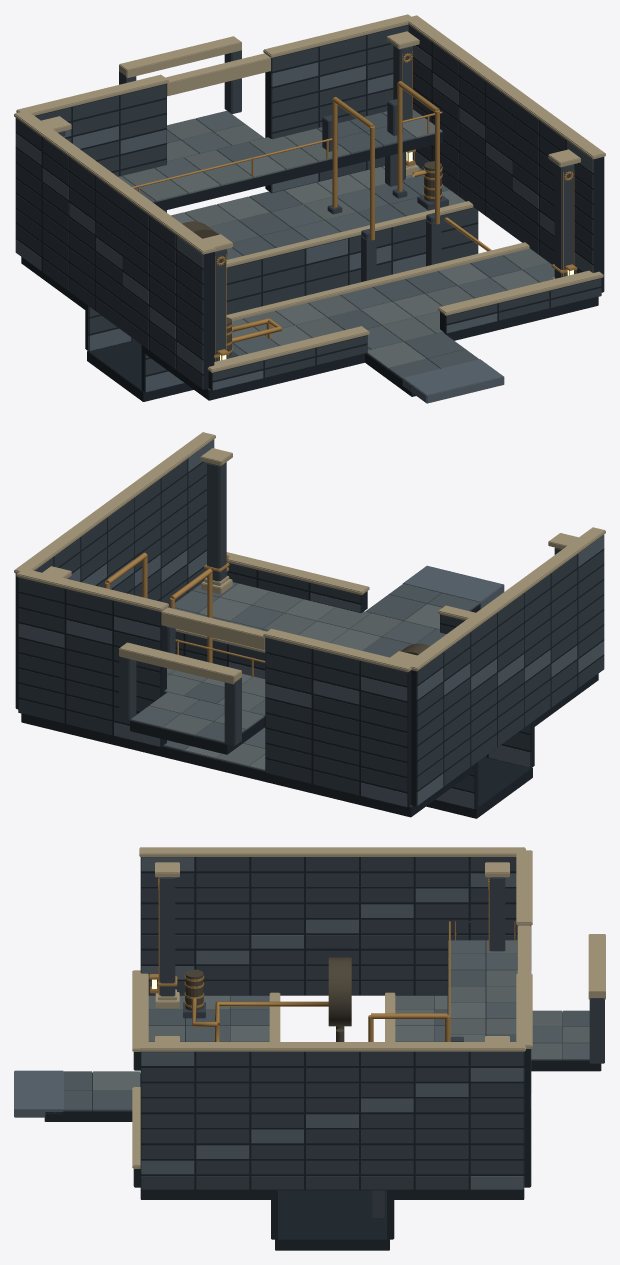
The model's file is steam-static-v01.glb.
3 renders of one model, top to bottom at view 1: azimuth 30°, elevation 25°; view 2: azimuth 150°, elevation 25°; view 3: azimuth 270°, elevation 25°, orthographic. The views are drawn at different scales.
Parts seen in each view (by area): view 1: Steam Basalt • charcoal, Steam Recesses and grout, Steam Ash stone • warm trim, Steam Basalt • blue grey bevels, Steam Floor stone 1, Steam Floor stone 3, Steam Floor stone 2, Steam Floor stone 0, Steam Bronze • forged warm, Steam Bronze • aged recess; view 2: Steam Basalt • charcoal, Steam Recesses and grout, Steam Ash stone • warm trim, Steam Basalt • blue grey bevels, Steam Floor stone 1, Steam Floor stone 2, Steam Floor stone 3, Steam Floor stone 0, Steam Bronze • forged warm; view 3: Steam Basalt • charcoal, Steam Recesses and grout, Steam Ash stone • warm trim, Steam Basalt • blue grey bevels, Steam Floor stone 1, Steam Floor stone 3, Steam Floor stone 0, Steam Floor stone 2, Steam Bronze • forged warm, Steam Bronze • aged recess.
Boxes of the visible parts, x1,y1,x2,y2 form: Steam Basalt • charcoal: [15, 25, 601, 389]; Steam Recesses and grout: [15, 24, 604, 401]; Steam Ash stone • warm trim: [14, 14, 605, 372]; Steam Basalt • blue grey bevels: [15, 45, 593, 403]; Steam Floor stone 1: [118, 118, 549, 389]; Steam Floor stone 3: [134, 112, 521, 379]; Steam Floor stone 2: [170, 117, 538, 368]; Steam Floor stone 0: [155, 109, 554, 353]; Steam Bronze • forged warm: [64, 51, 577, 361]; Steam Bronze • aged recess: [182, 161, 441, 356]; Steam Basalt • charcoal: [18, 460, 604, 795]; Steam Recesses and grout: [15, 439, 604, 818]; Steam Ash stone • warm trim: [14, 432, 605, 684]; Steam Basalt • blue grey bevels: [18, 440, 604, 808]; Steam Floor stone 1: [149, 591, 402, 767]; Steam Floor stone 2: [184, 583, 442, 806]; Steam Floor stone 3: [162, 584, 480, 751]; Steam Floor stone 0: [130, 582, 435, 748]; Steam Bronze • forged warm: [105, 552, 265, 677]; Steam Basalt • charcoal: [133, 857, 604, 1238]; Steam Recesses and grout: [44, 857, 601, 1250]; Steam Ash stone • warm trim: [132, 847, 605, 1168]; Steam Basalt • blue grey bevels: [14, 857, 531, 1189]; Steam Floor stone 1: [148, 940, 589, 1060]; Steam Floor stone 3: [63, 970, 589, 1111]; Steam Floor stone 0: [185, 940, 589, 1060]; Steam Floor stone 2: [93, 995, 485, 1090]; Steam Bronze • forged warm: [149, 877, 515, 1041]; Steam Bronze • aged recess: [185, 957, 351, 1041].
Bounding box in the file's own units: 24.85 × 11.82 × 30.85.
